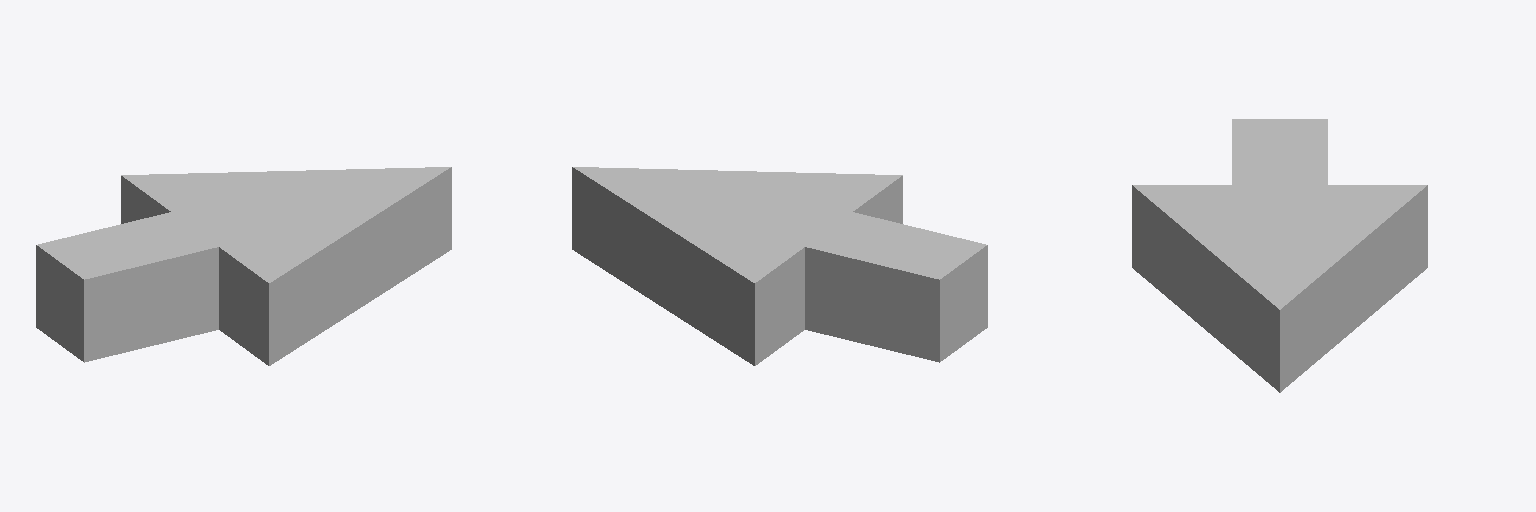
The model's file is cursor.obj.
3 views of the same model, side by side, from view 1: azimuth 30°, elevation 25°; view 2: azimuth 150°, elevation 25°; view 3: azimuth 270°, elevation 25° (orthographic).
Parts seen in each view (by area): view 1: Cube.001; view 2: Cube.001; view 3: Cube.001.
Boxes of the visible parts, <box> form: Cube.001: <box>36,167,451,365</box>; Cube.001: <box>572,167,987,365</box>; Cube.001: <box>1132,119,1427,392</box>.
Bounding box in the file's own units: 3.05 × 0.6167 × 2.